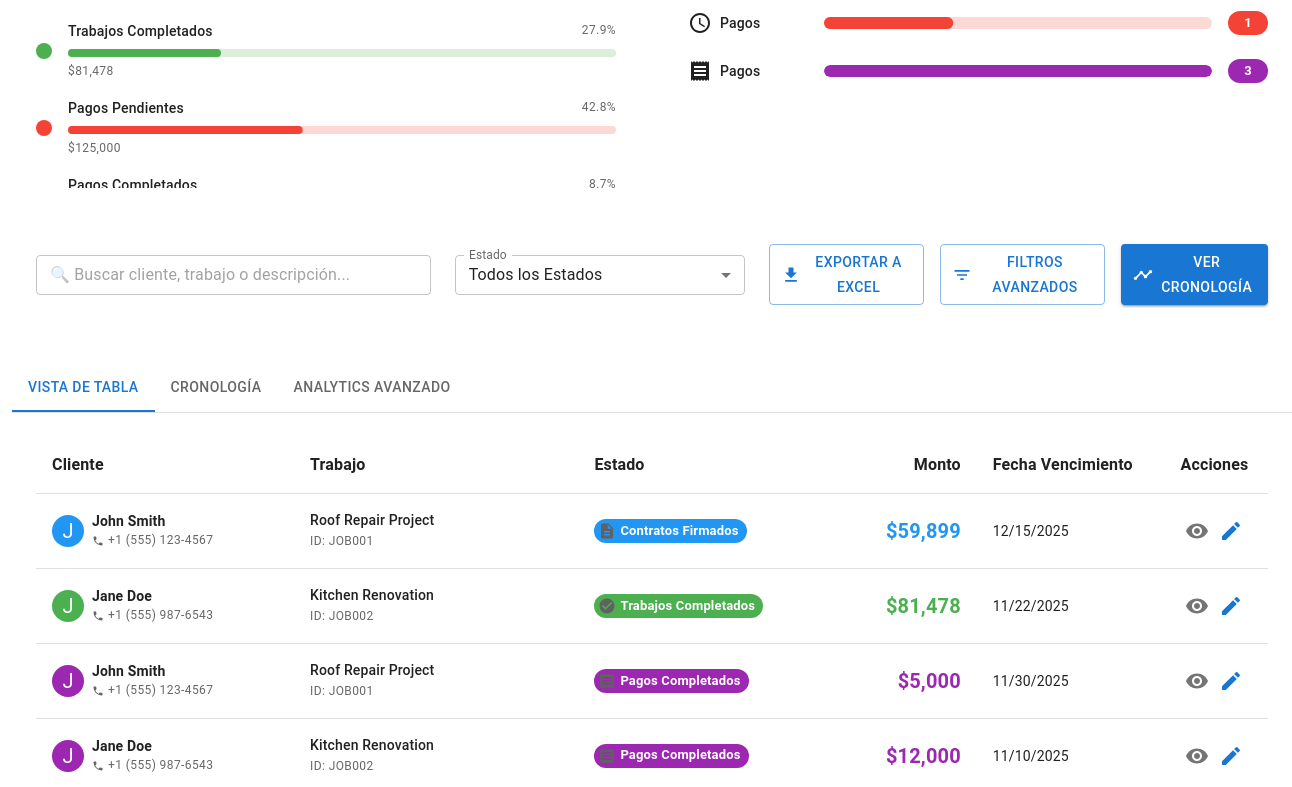
Scenario: BillingView › switches between tabs correctly
This screenshot has width=1292, height=787.
(page scrolled)
Expected: the tab "Vista de Tabla" is shown, [12, 364, 155, 412]
Expected: the tab "Analytics Avanzado" is shown, [278, 364, 466, 412]
Click on Cronología tab
Click the tab "Cronología": (216, 388) [155, 364, 278, 412]
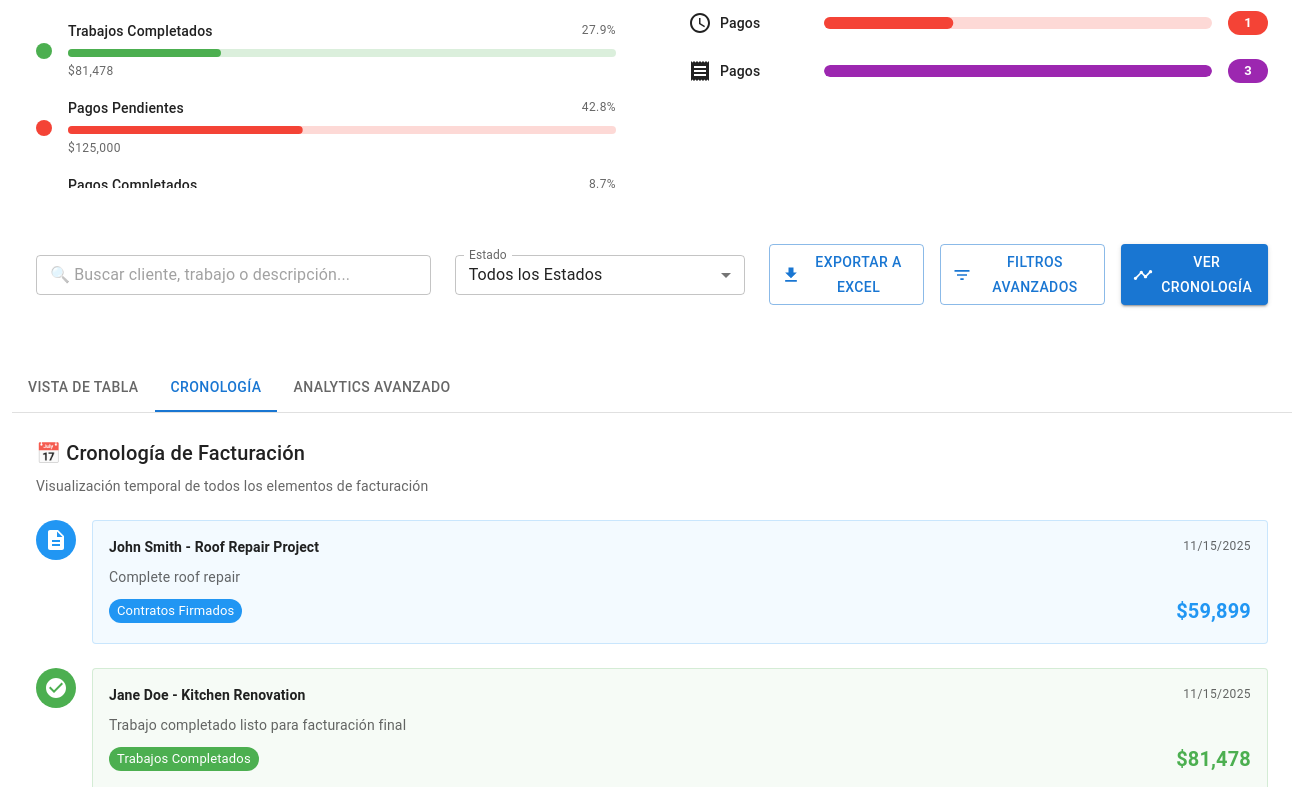
Expected: the heading "📅 Cronología de Facturación" is shown, [36, 441, 305, 465]
Click on Analytics Avanzado tab
Click the tab "Analytics Avanzado": (372, 388) [278, 364, 466, 412]
(page scrolled)
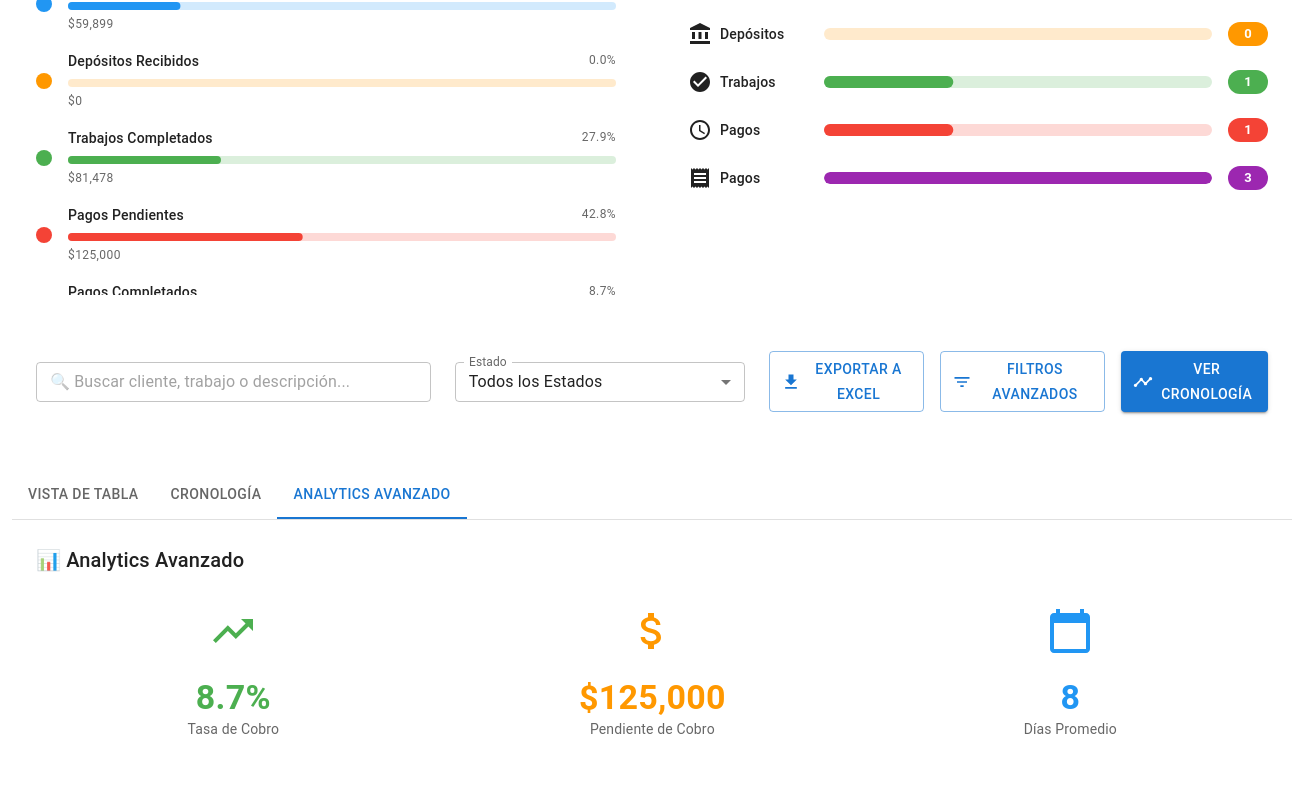
Expected: the heading "📊 Analytics Avanzado" is shown, [36, 548, 244, 572]
Expected: the text "Tasa de Cobro" is shown, [187, 721, 279, 737]
Expected: the text "Pendiente de Cobro" is shown, [590, 721, 714, 737]
